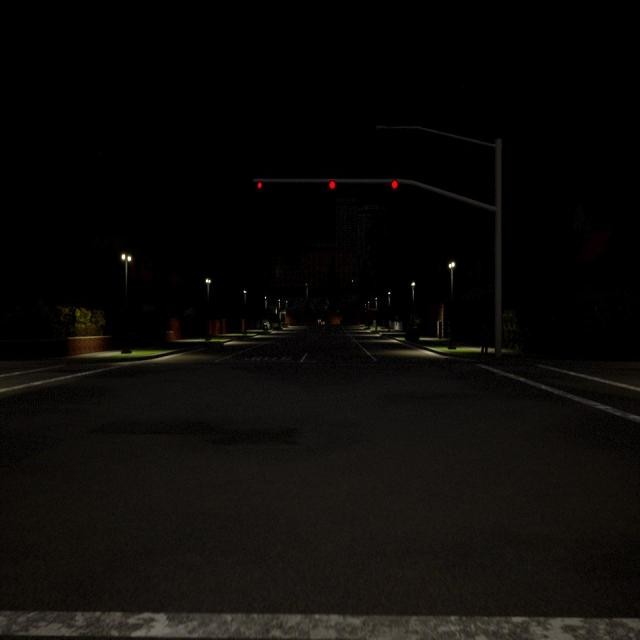Pedestrian: (481, 324, 487, 354)
traffic_light: (330, 181, 336, 189), (392, 181, 398, 189), (257, 182, 262, 188)
